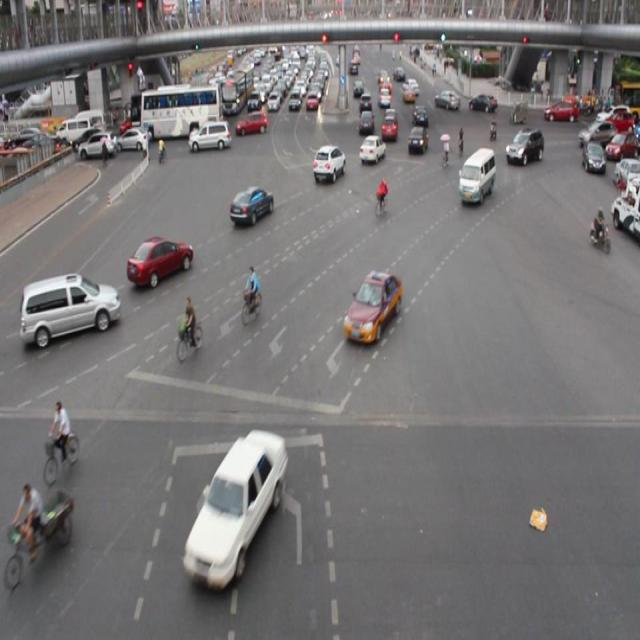car: (182, 430, 285, 582), (342, 269, 401, 343), (125, 235, 193, 289), (228, 185, 274, 227), (504, 126, 543, 167), (311, 144, 346, 183), (357, 132, 386, 165), (406, 125, 428, 155)
truck: (19, 274, 119, 341), (456, 146, 494, 204)
